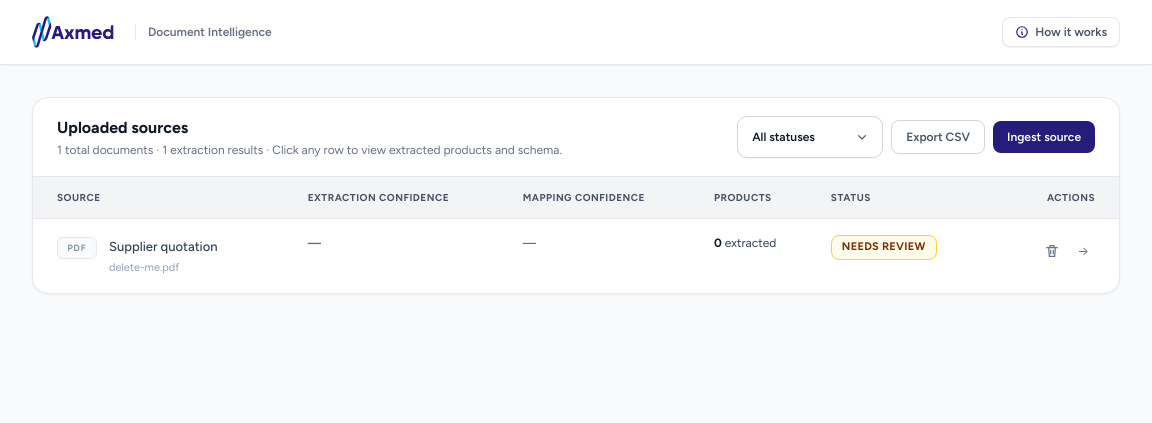
Test: App › confirms and deletes an uploaded source from the table
The width and height of the screenshot is (1152, 423).
Click the button named "Delete Supplier quotation" at (1052, 251), box [1036, 235, 1068, 267]
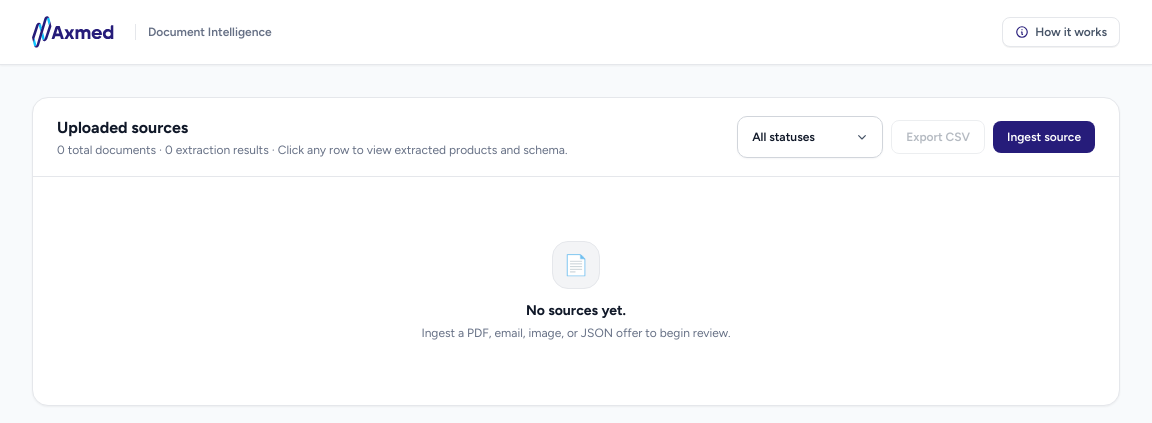
Result: the text "No sources yet." is shown at [526, 302, 626, 319]
